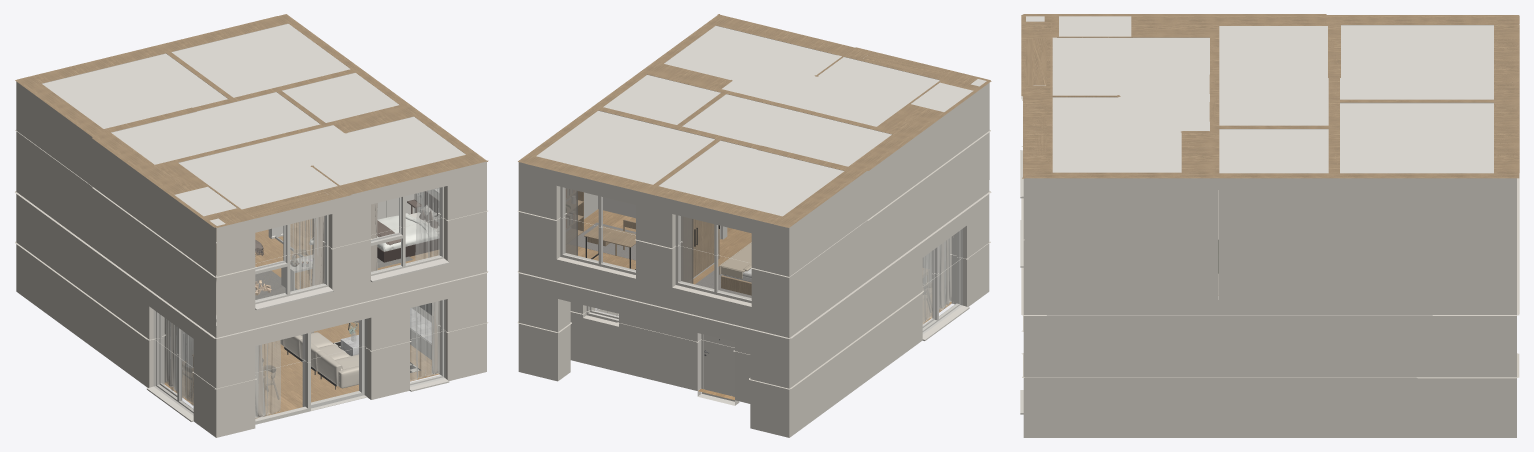
Rendered from wnetrze-SZEREG-v13.glb.
3 views of the same model, side by side, from view 1: azimuth 30°, elevation 25°; view 2: azimuth 150°, elevation 25°; view 3: azimuth 270°, elevation 25° (orthographic). The views are drawn at different scales.
Parts seen in each view (by area): view 1: KOND_1__SUFIT, KOND_0__SCIANY, KOND_1__SCIANY, KOND_1__WIERZCHY, KOND_0__OKNA, KOND_1__OKNA, KOND_0__WYPOSAZENIE, KOND_1__WYPOSAZENIE, KOND_0__PODLOGA, KOND_1__PODLOGA, KOND_0__WIERZCHY, KOND_0__PRZEKROJ (+1 smaller); view 2: KOND_0__SCIANY, KOND_1__SUFIT, KOND_1__SCIANY, KOND_1__WIERZCHY, KOND_1__OKNA, KOND_1__WYPOSAZENIE, KOND_0__OKNA, KOND_1__PODLOGA, KOND_0__WYPOSAZENIE, KOND_0__WIERZCHY, KOND_0__PRZEKROJ, KOND_1__PRZEKROJ; view 3: KOND_0__SCIANY, KOND_1__SCIANY, KOND_1__SUFIT, KOND_1__WIERZCHY, KOND_0__WIERZCHY, KOND_0__PRZEKROJ.
Part boxes in pixels (box(x1,y1,x2,y2)): KOND_1__SUFIT: box(42, 24, 465, 225); KOND_0__SCIANY: box(16, 180, 486, 437); KOND_1__SCIANY: box(16, 23, 486, 325); KOND_1__WIERZCHY: box(15, 14, 488, 227); KOND_0__OKNA: box(146, 300, 449, 424); KOND_1__OKNA: box(255, 187, 449, 310); KOND_0__WYPOSAZENIE: box(164, 301, 439, 417); KOND_1__WYPOSAZENIE: box(216, 188, 439, 315); KOND_0__PODLOGA: box(164, 322, 439, 418); KOND_1__PODLOGA: box(255, 219, 439, 289); KOND_0__WIERZCHY: box(15, 191, 488, 338); KOND_0__PRZEKROJ: box(15, 241, 488, 389); KOND_0__SCIANY: box(518, 180, 989, 437); KOND_1__SUFIT: box(536, 26, 986, 216); KOND_1__SCIANY: box(518, 25, 989, 325); KOND_1__WIERZCHY: box(518, 14, 991, 227); KOND_1__OKNA: box(560, 186, 751, 303); KOND_1__WYPOSAZENIE: box(565, 188, 751, 297); KOND_0__OKNA: box(922, 229, 969, 340); KOND_1__PODLOGA: box(578, 209, 751, 284); KOND_0__WYPOSAZENIE: box(589, 236, 953, 355); KOND_0__WIERZCHY: box(517, 191, 991, 338); KOND_0__PRZEKROJ: box(517, 241, 990, 389); KOND_1__PRZEKROJ: box(517, 130, 990, 277); KOND_0__SCIANY: box(1023, 300, 1516, 437); KOND_1__SCIANY: box(1023, 25, 1516, 300); KOND_1__SUFIT: box(1026, 16, 1493, 173); KOND_1__WIERZCHY: box(1021, 14, 1519, 178); KOND_0__WIERZCHY: box(1021, 173, 1519, 315); KOND_0__PRZEKROJ: box(1021, 315, 1519, 378).
Bounding box in the file's own units: 7.61 × 5.73 × 9.72.
144 materials, 60 textured.
